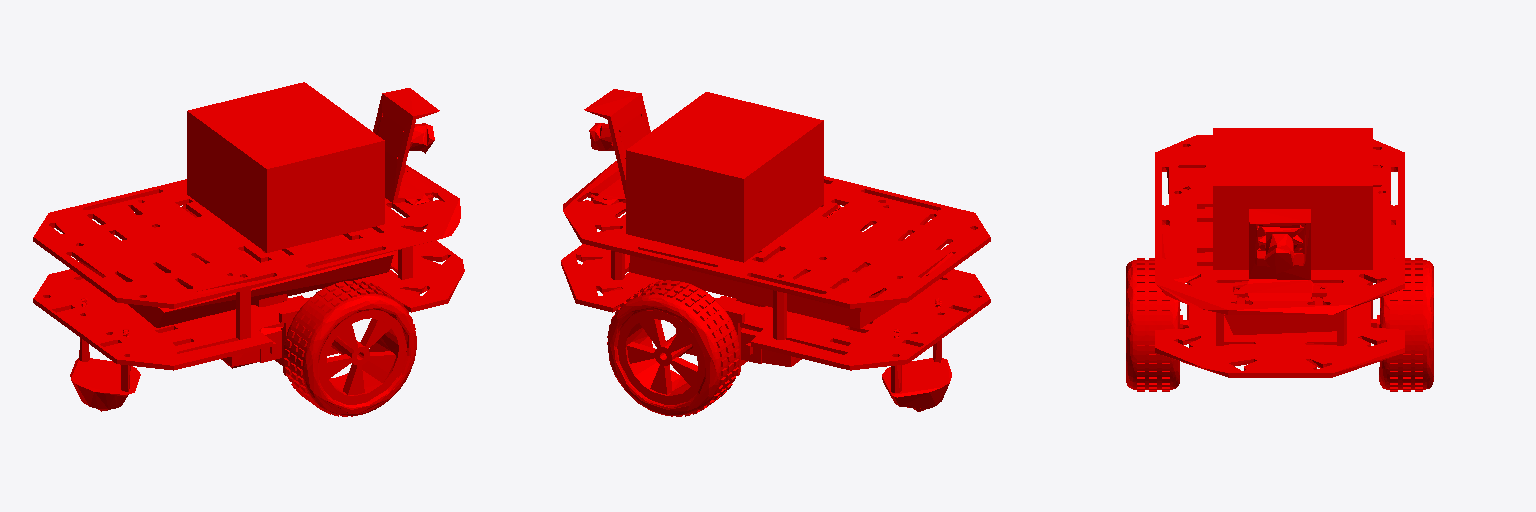
File: duckiebot_cv.obj
3 views of the same model, side by side, from view 1: azimuth 30°, elevation 25°; view 2: azimuth 150°, elevation 25°; view 3: azimuth 270°, elevation 25° (orthographic).
Parts seen in each view (by area): view 1: chassis_package://duckiebot_description/meshes/duckiebotFrame.d, Cube_Cube.001, right_wheel_package://duckiebot_description/meshes/duckiebot_ri, camera_package://duckiebot_description/meshes/duckiebot_camera.; view 2: chassis_package://duckiebot_description/meshes/duckiebotFrame.d, Cube_Cube.001, left_wheel_package://duckiebot_description/meshes/duckiebot_lef, camera_package://duckiebot_description/meshes/duckiebot_camera.; view 3: chassis_package://duckiebot_description/meshes/duckiebotFrame.d, Cube_Cube.001, camera_package://duckiebot_description/meshes/duckiebot_camera., left_wheel_package://duckiebot_description/meshes/duckiebot_lef, right_wheel_package://duckiebot_description/meshes/duckiebot_ri.
Part boxes in pixels (left/top/right/bottom): chassis_package://duckiebot_description/meshes/duckiebotFrame.d: left=33, top=165, right=464, bottom=411; Cube_Cube.001: left=187, top=82, right=384, bottom=252; right_wheel_package://duckiebot_description/meshes/duckiebot_ri: left=284, top=280, right=416, bottom=416; camera_package://duckiebot_description/meshes/duckiebot_camera.: left=373, top=88, right=439, bottom=204; chassis_package://duckiebot_description/meshes/duckiebotFrame.d: left=561, top=161, right=990, bottom=411; Cube_Cube.001: left=626, top=92, right=823, bottom=262; left_wheel_package://duckiebot_description/meshes/duckiebot_lef: left=607, top=280, right=739, bottom=416; camera_package://duckiebot_description/meshes/duckiebot_camera.: left=584, top=89, right=650, bottom=204; chassis_package://duckiebot_description/meshes/duckiebotFrame.d: left=1155, top=135, right=1404, bottom=377; Cube_Cube.001: left=1213, top=128, right=1372, bottom=269; camera_package://duckiebot_description/meshes/duckiebot_camera.: left=1233, top=209, right=1326, bottom=300; left_wheel_package://duckiebot_description/meshes/duckiebot_lef: left=1377, top=258, right=1433, bottom=391; right_wheel_package://duckiebot_description/meshes/duckiebot_ri: left=1126, top=258, right=1182, bottom=391.
Size of the model in its own units: 0.1998 by 0.123 by 0.1472.